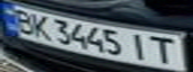3: (48, 17, 72, 46)
4: (84, 25, 106, 54), (66, 21, 87, 50)
5: (103, 27, 127, 57)
B: (6, 7, 39, 35)
I: (124, 30, 154, 62)
K: (27, 12, 54, 41)
T: (145, 34, 184, 65)
